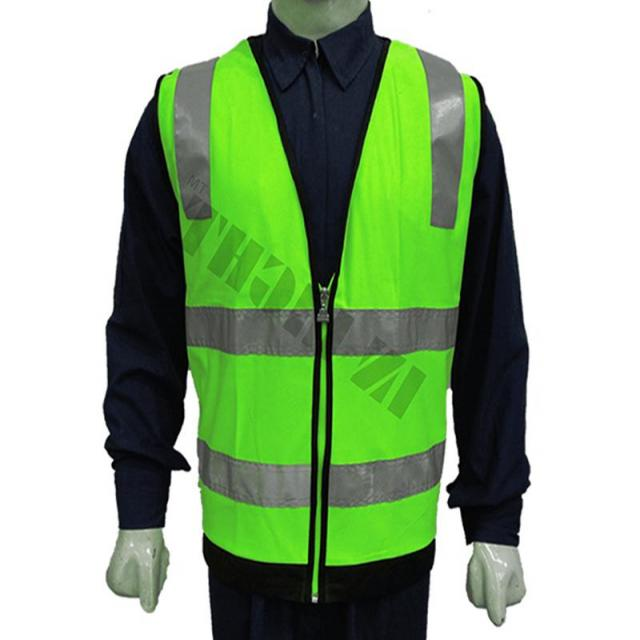Reflective-Jacket: (150, 17, 493, 586)
